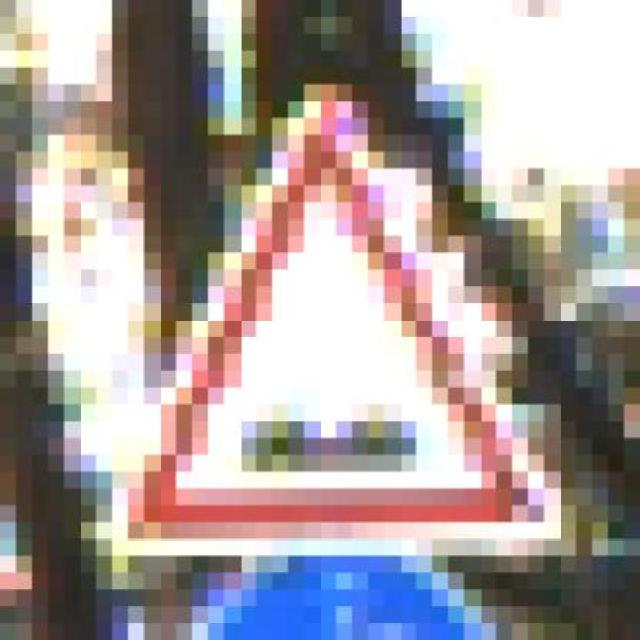Uneven Road: (96, 67, 576, 556)
